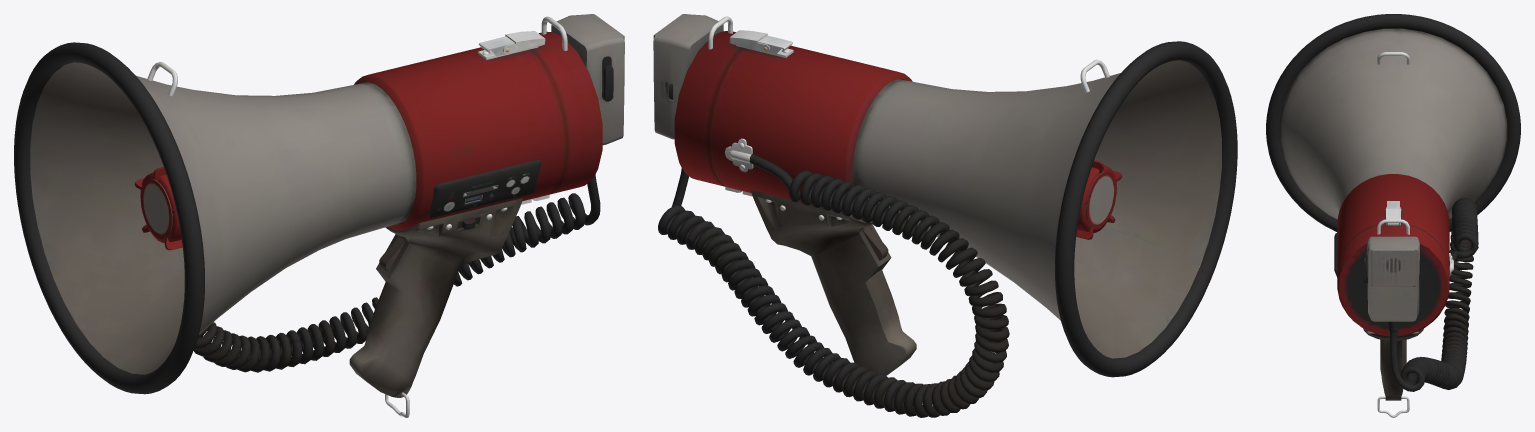
The model's file is Megaphone_01.glb.
3 views of the same model, side by side, from view 1: azimuth 30°, elevation 25°; view 2: azimuth 150°, elevation 25°; view 3: azimuth 270°, elevation 25° (orthographic). The views are drawn at different scales.
Visible parts, largest first — view 1: Megaphone_01; view 2: Megaphone_01; view 3: Megaphone_01.
Part boxes in pixels (<box>): Megaphone_01: <box>14,14,624,417</box>; Megaphone_01: <box>653,14,1237,417</box>; Megaphone_01: <box>1266,14,1520,417</box>.
Bounding box in the file's own units: 0.3707 × 0.3001 × 0.2284.
1 material, 1 textured.
